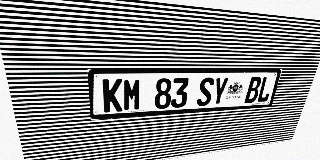3: (170, 78, 189, 108)
8: (154, 78, 173, 109)
B: (244, 77, 262, 103)
K: (102, 79, 122, 112)
L: (256, 76, 274, 102)
M: (123, 78, 142, 111)
S: (196, 77, 215, 106)
Y: (210, 77, 229, 105)
